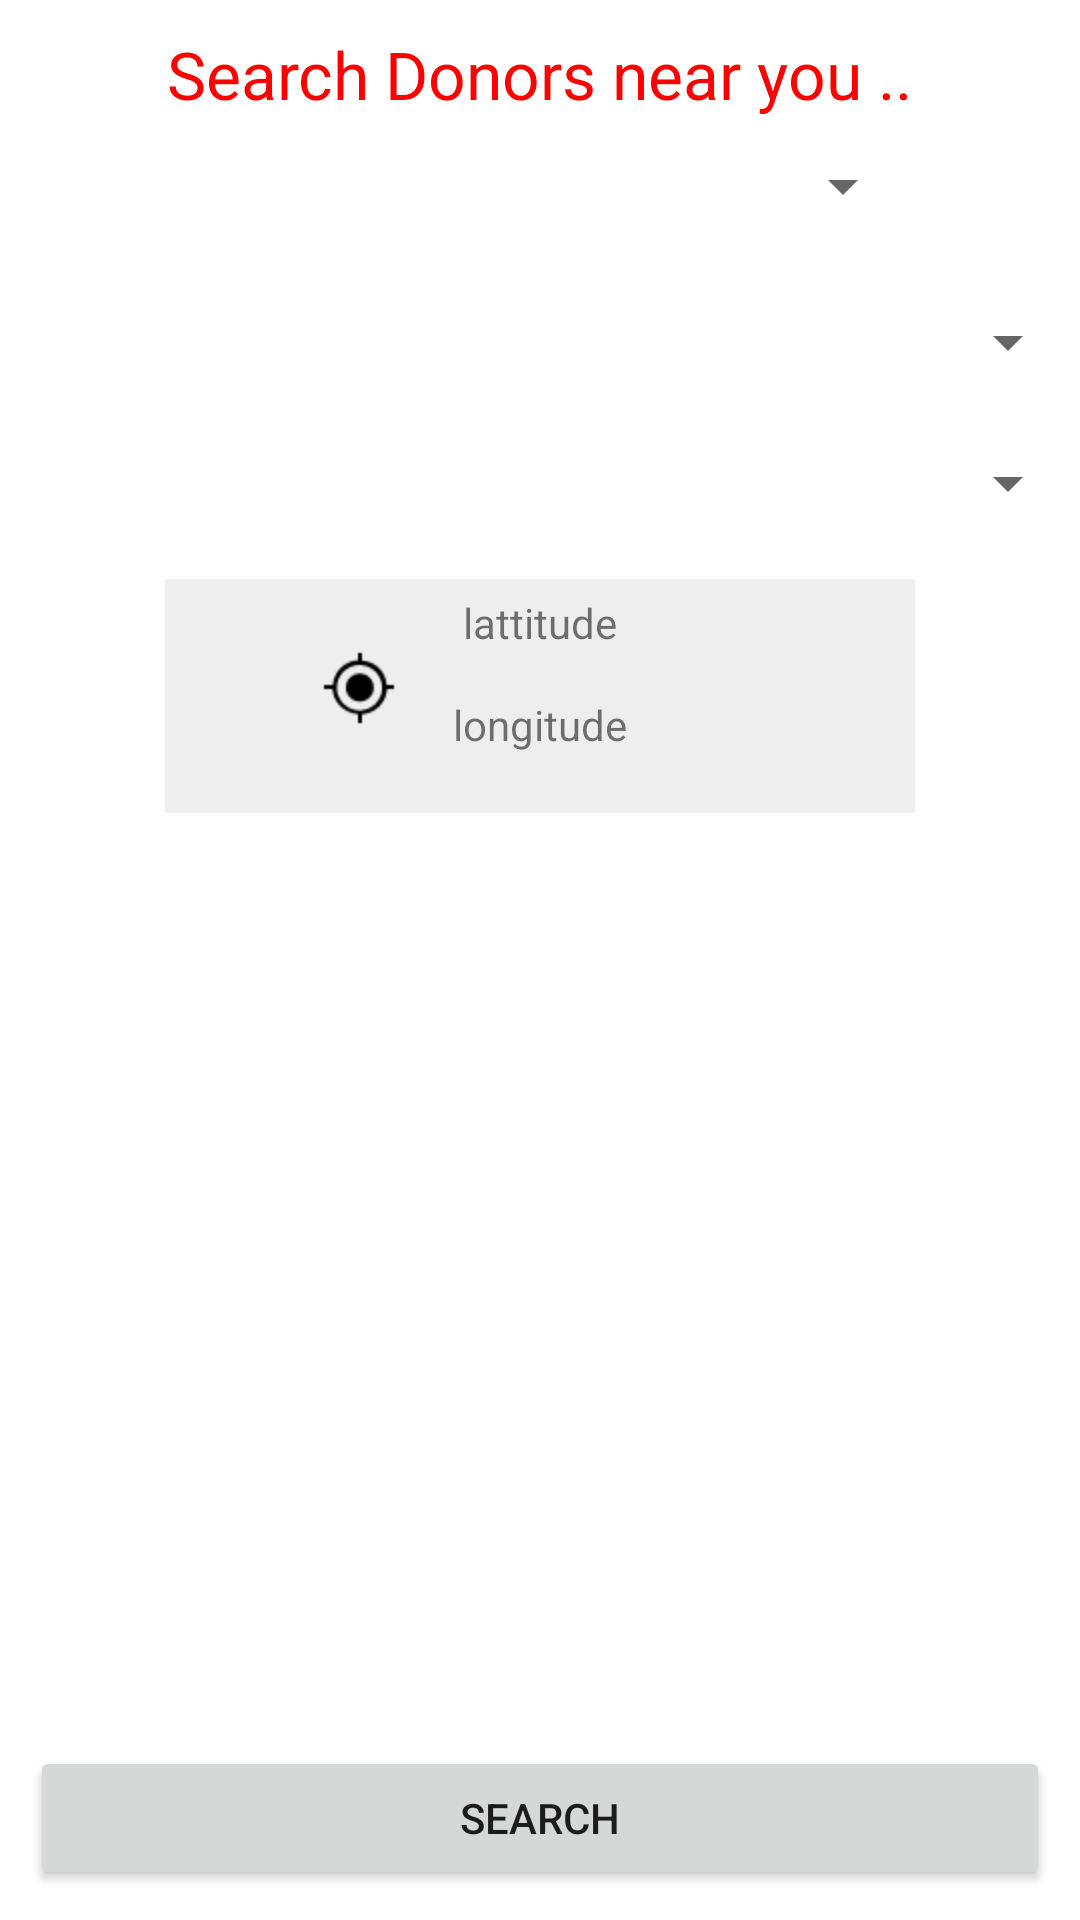

Point at icon controls on the screen. Image size 1080px x 1920px, points as point (x, y).
locate: point (359, 688)
